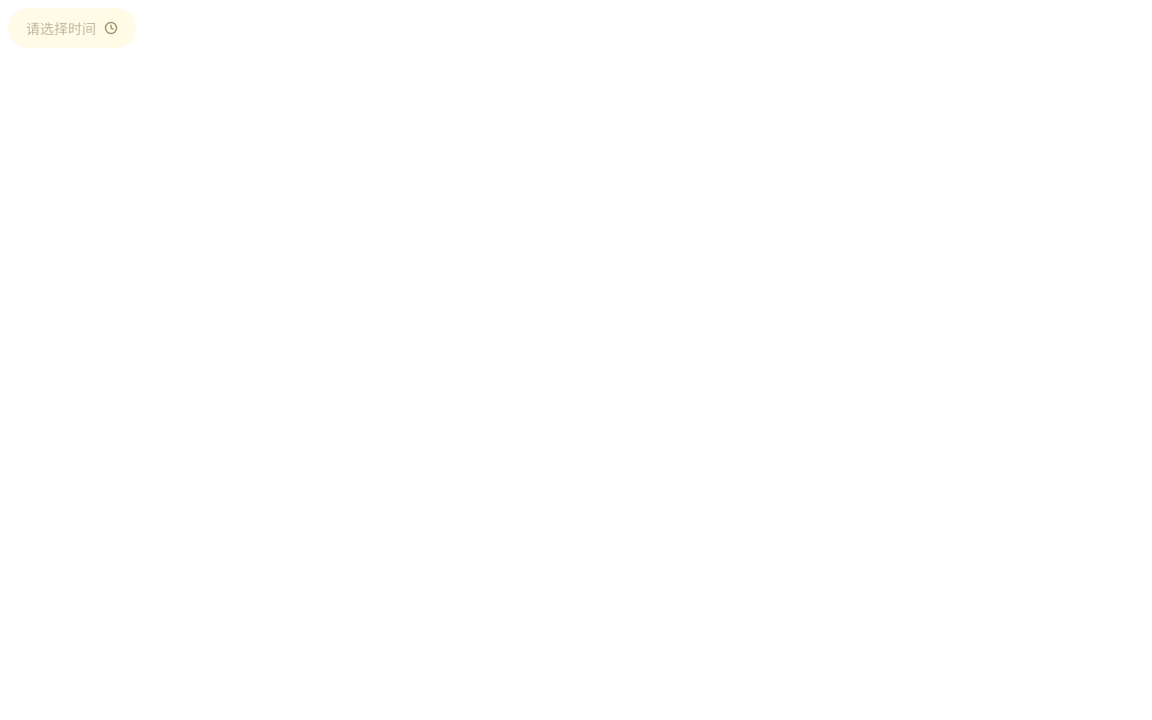
TimePicker › 展开与选择 › 点击触发区展开面板
This screenshot has width=1152, height=720.
Click the dropdown: (72, 28) [8,8,136,48]
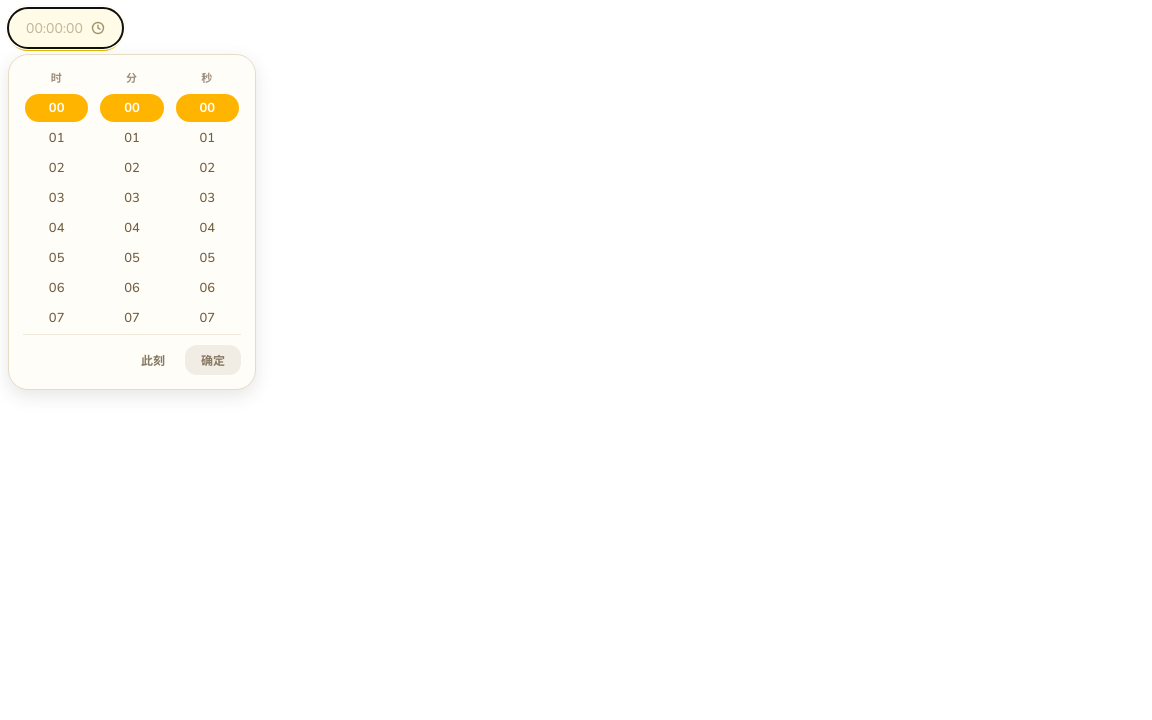
expect the dialog is shown: met, box [8,54,256,390]
